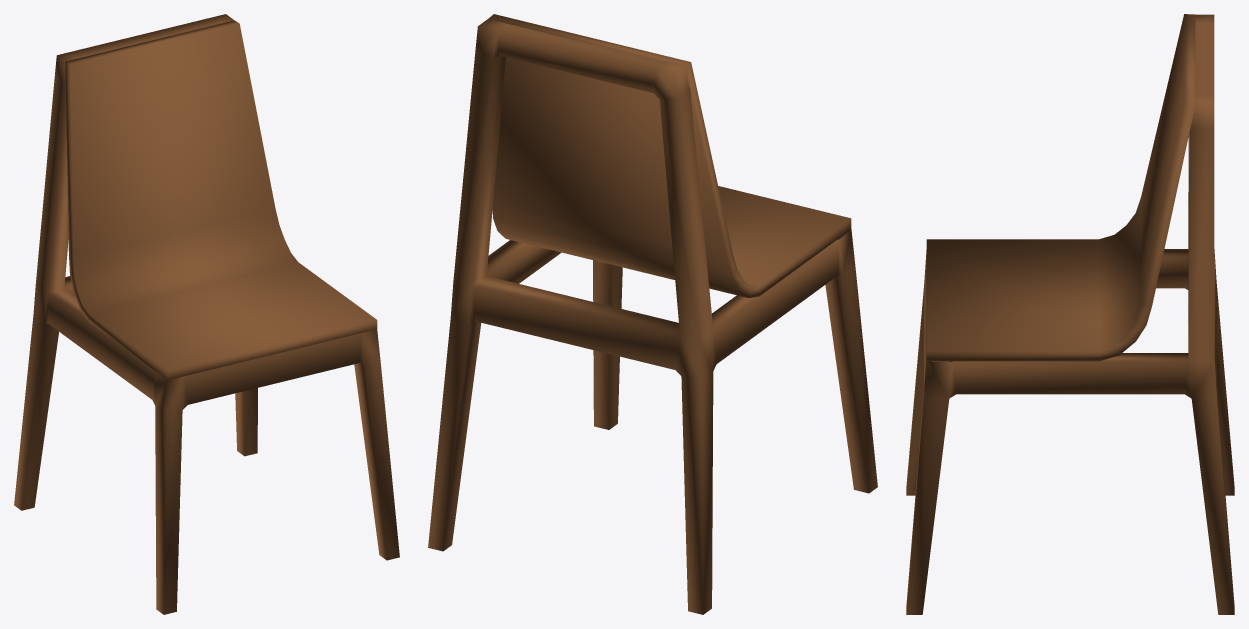
Rendered from Chair_3.fbx.
3 views of the same model, side by side, from view 1: azimuth 30°, elevation 25°; view 2: azimuth 150°, elevation 25°; view 3: azimuth 270°, elevation 25° (orthographic). The views are drawn at different scales.
Parts seen in each view (by area): view 1: Cube; view 2: Cube; view 3: Cube.
Boxes of the visible parts, x1,y1,x2,y2 form: Cube: (14,14,399,614); Cube: (428,14,877,614); Cube: (906,14,1234,614).
Bounding box in the file's own units: 137 × 250 × 151.
